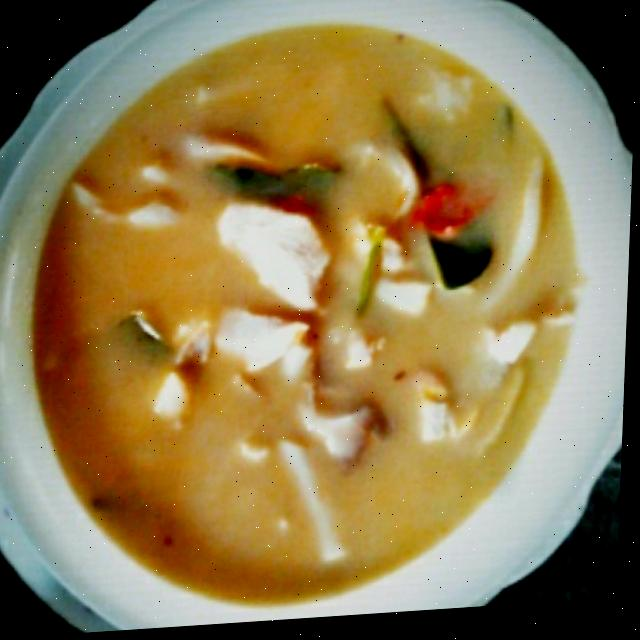汤锅炖物: (5, 0, 620, 634)
